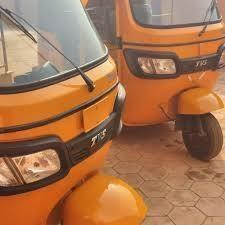keke: (102, 1, 224, 167)
